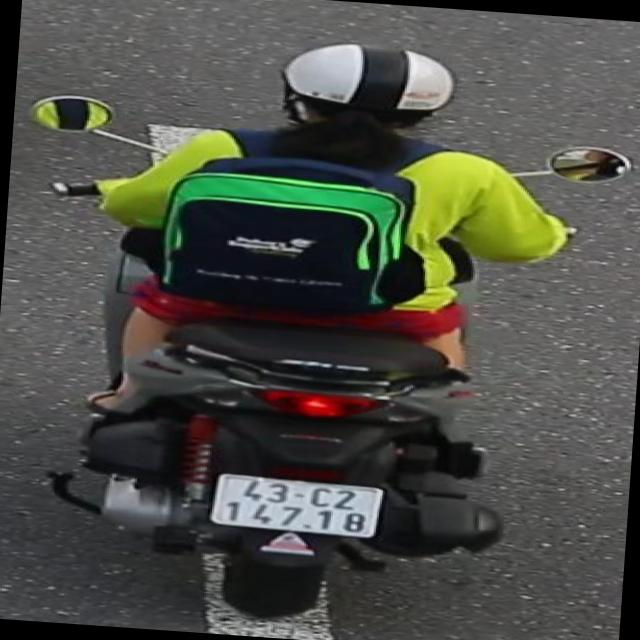LP: (201, 468, 392, 544)
helmet: (260, 34, 467, 162)
